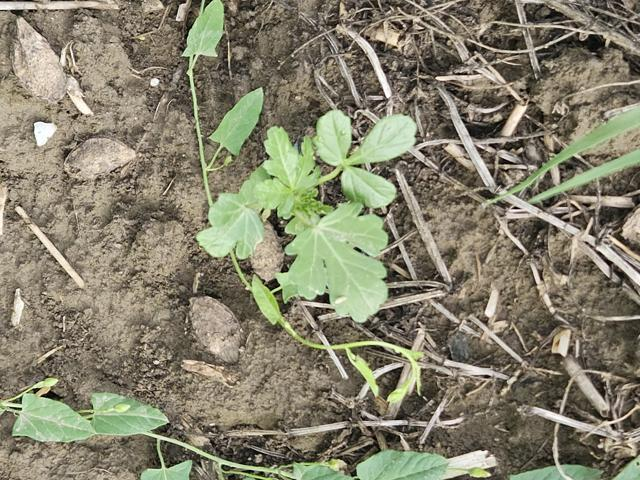bad weed: (7, 362, 519, 480), (199, 93, 446, 336), (507, 84, 640, 231)
